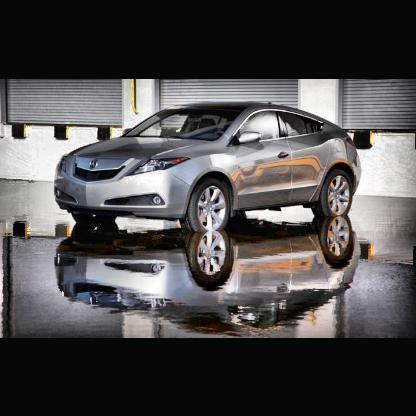Acura ZDX Hatchback 2012: (56, 101, 363, 235)
